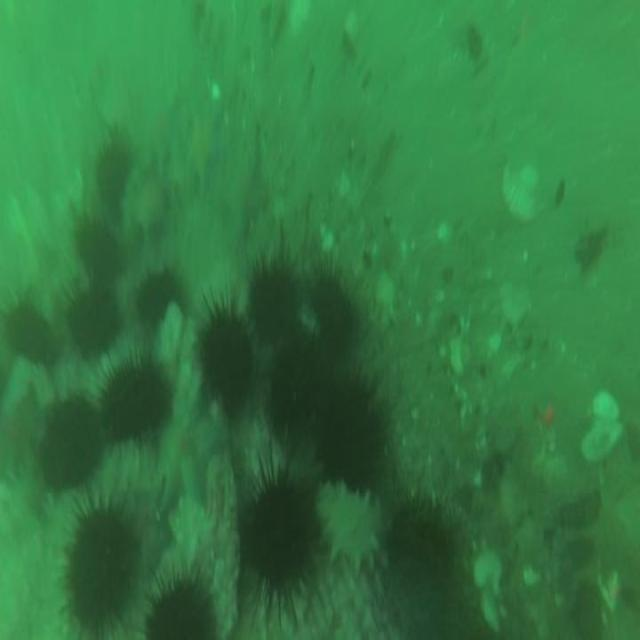echinus: (243, 474, 309, 593), (68, 512, 132, 629), (271, 322, 333, 427), (323, 373, 381, 480), (100, 363, 174, 441), (39, 403, 99, 495), (202, 310, 252, 411), (391, 493, 449, 574), (148, 580, 212, 640), (247, 266, 296, 344), (66, 296, 121, 356), (312, 269, 354, 343), (74, 216, 120, 283), (135, 267, 177, 324), (8, 307, 53, 360), (93, 138, 130, 199)
holothurian: (315, 480, 385, 572)
scallop: (501, 161, 545, 226)
starfish: (159, 411, 221, 510), (132, 164, 176, 253), (188, 119, 224, 190)
